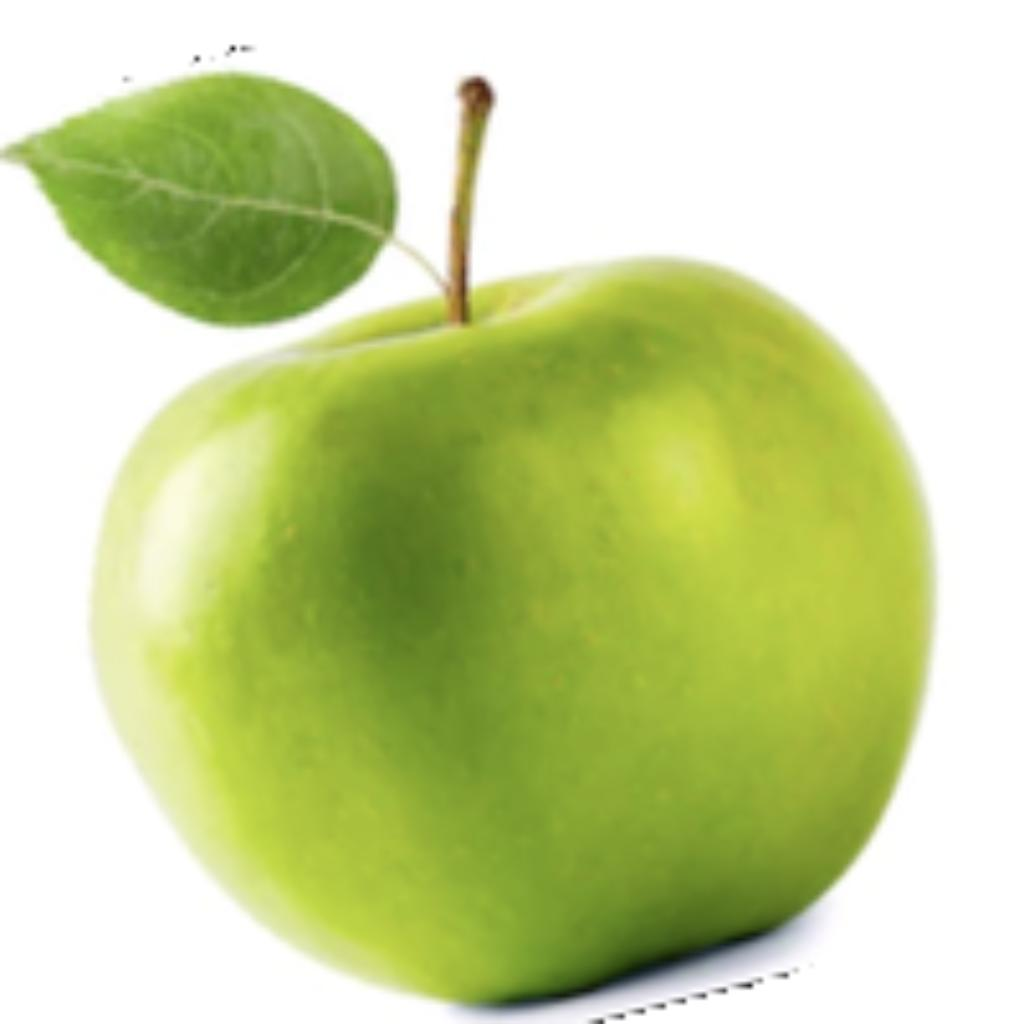apple: (0, 41, 942, 1019)
